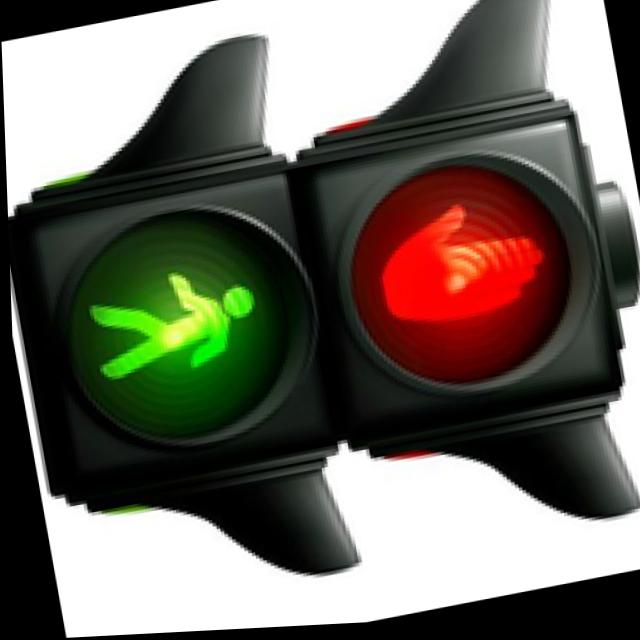green_light: (8, 167, 320, 476)
red_light: (298, 114, 640, 429)
